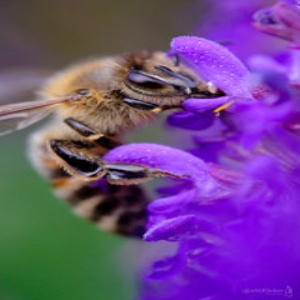bee: (2, 46, 229, 251)
